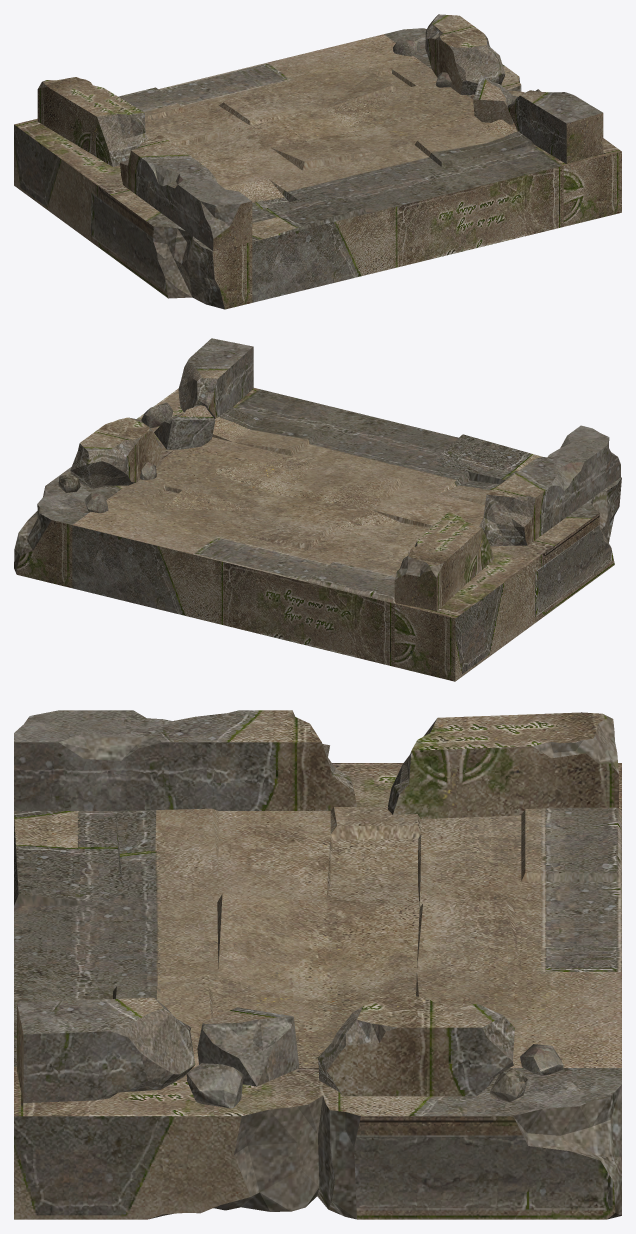
The model's file is bg_lut_lutomb_brokenbridge03_sm_old.FBX.
3 renders of one model, top to bottom at view 1: azimuth 30°, elevation 25°; view 2: azimuth 150°, elevation 25°; view 3: azimuth 270°, elevation 25°, orthographic. The views are drawn at different scales.
Visible parts, largest first — view 1: bg_lut_lutomb_brokenbridge03_sm_old; view 2: bg_lut_lutomb_brokenbridge03_sm_old; view 3: bg_lut_lutomb_brokenbridge03_sm_old.
Part boxes in pixels (x1,y1,x2,y2): bg_lut_lutomb_brokenbridge03_sm_old: (14,14,621,309); bg_lut_lutomb_brokenbridge03_sm_old: (14,338,621,681); bg_lut_lutomb_brokenbridge03_sm_old: (14,710,621,1219).
Bounding box in the file's own units: 528 × 120 × 384.
